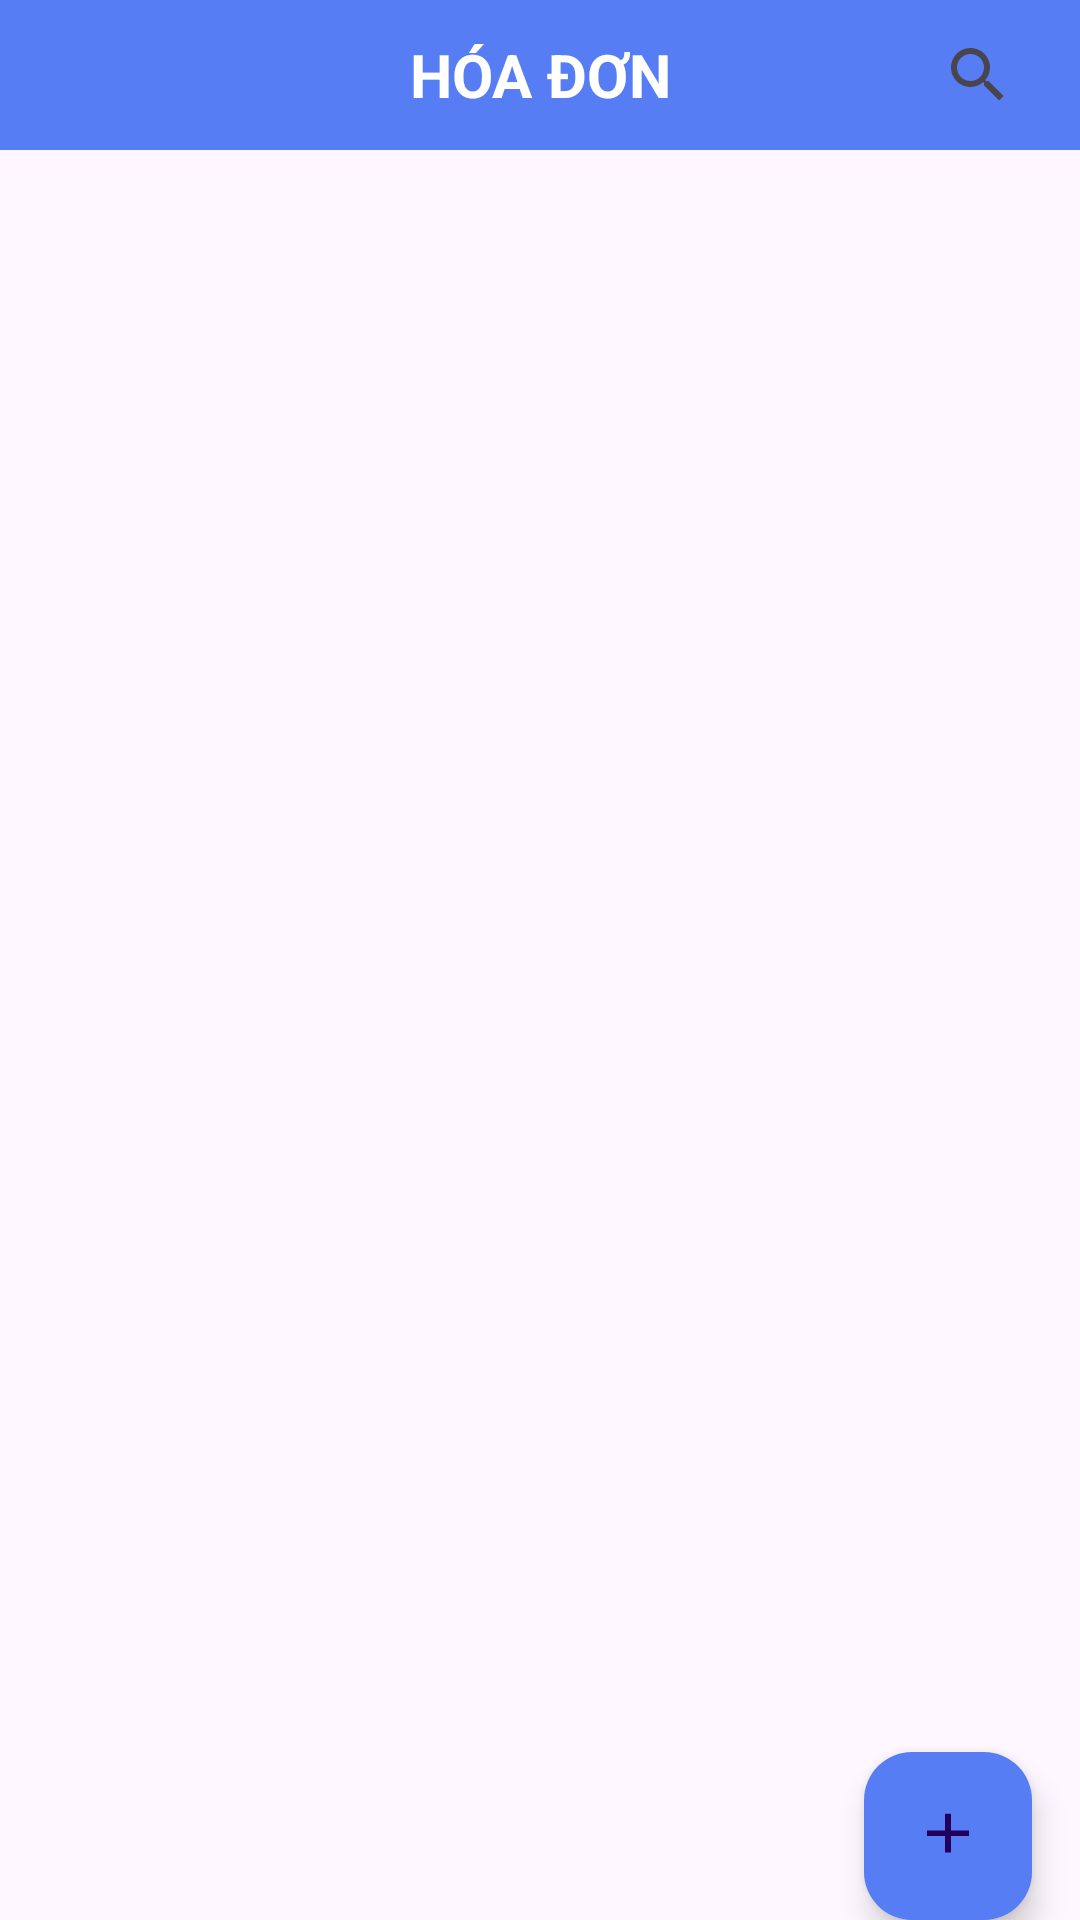

Named icons in this screenshot (1080px x 1920px) and their centers, point (x, y):
add: point (948, 1836)
